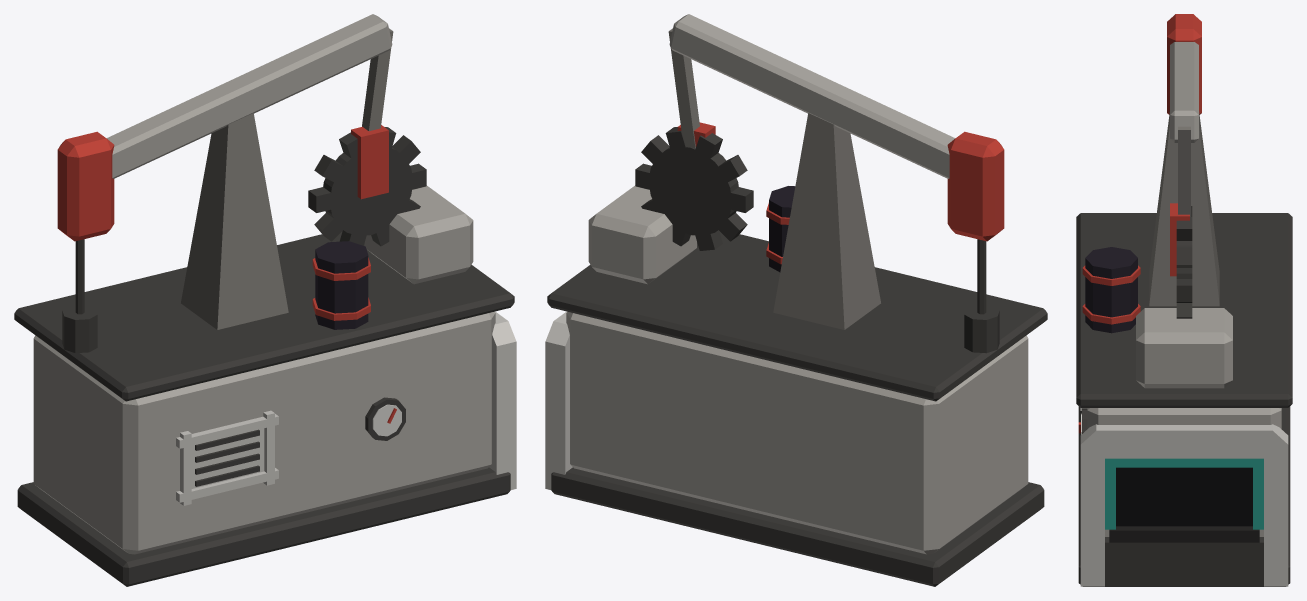
Rendered from pumpjack.fbx.
The picture shows the model from 3 angles, left to right: view 1: azimuth 30°, elevation 25°; view 2: azimuth 150°, elevation 25°; view 3: azimuth 270°, elevation 25°; orthographic projection. The views are drawn at different scales.
Parts seen in each view (by area): view 1: pumpjack; view 2: pumpjack; view 3: pumpjack.
Part boxes in pixels (x1,y1,x2,y2): pumpjack: (14, 14, 516, 586); pumpjack: (545, 14, 1047, 586); pumpjack: (1076, 14, 1292, 586).
Size of the model in its own units: 6.06 by 6.6 by 2.94.
